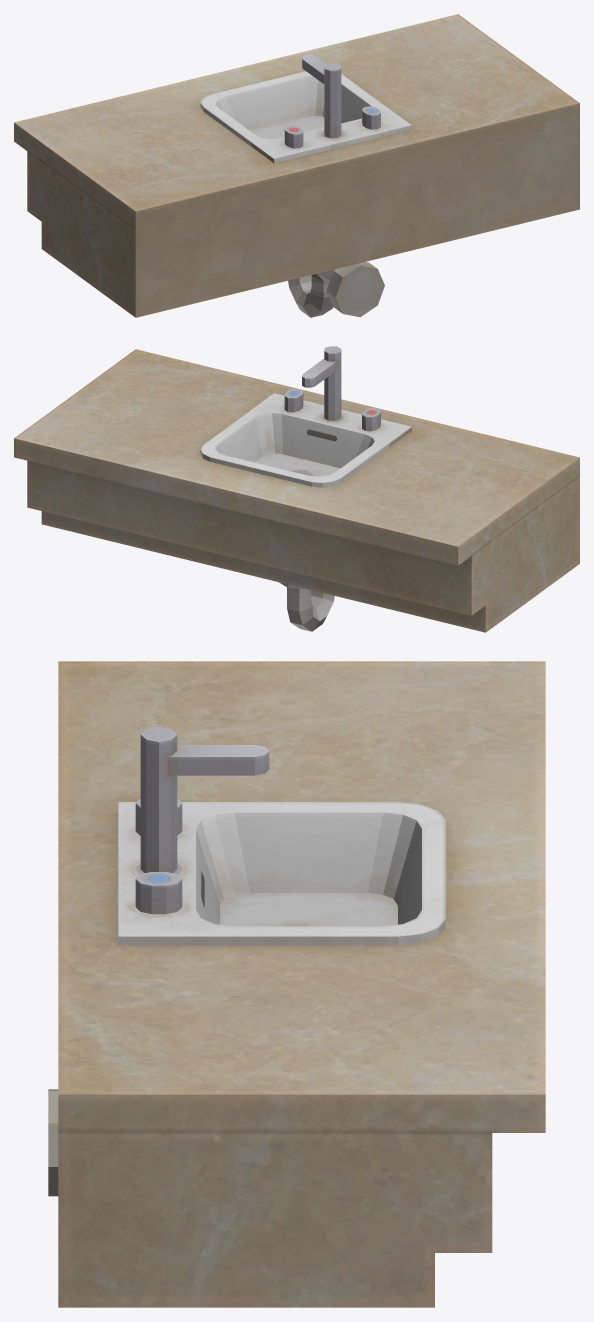
Rendered from P_Washbasin_009_S1_M01.obj.
3 views of the same model, one above another, from view 1: azimuth 30°, elevation 25°; view 2: azimuth 150°, elevation 25°; view 3: azimuth 270°, elevation 25° (orthographic). The views are drawn at different scales.
Bounding box in the file's own units: 2 × 1.12 × 0.9693.
Materials: 1 (1 with a texture image).
